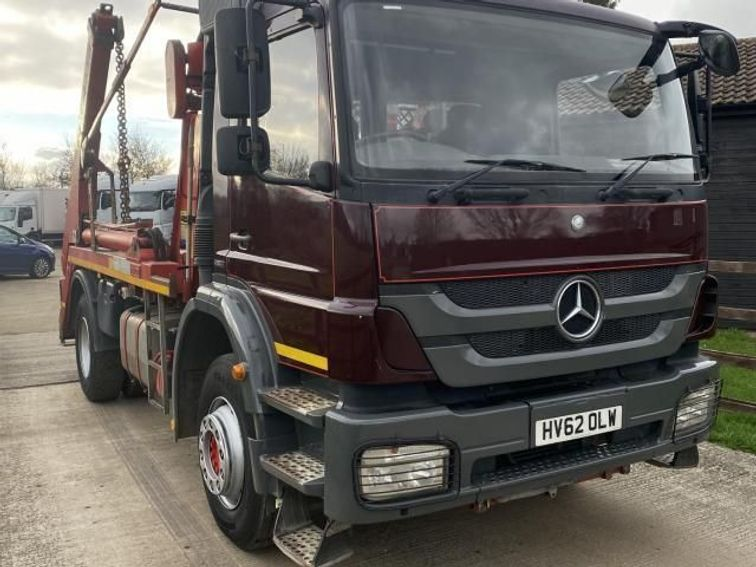Car: (0, 223, 55, 280)
Semi: (57, 0, 721, 566)
